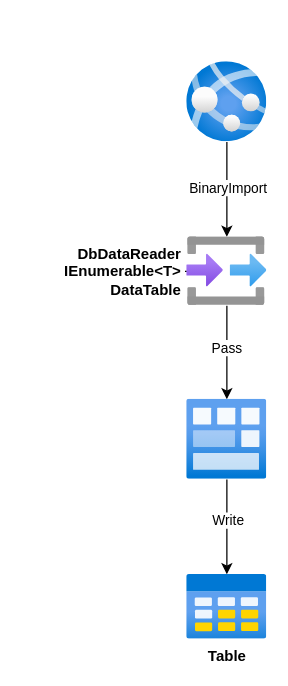
The diagram is 288 pixels wide and 686 high, and some of its shapes have lost their labels. Each missing label, with the centre of its shape:
"Client (RepoDB)" belongs at pixel 226 101.
"NpgsqlBinaryImporter (Write)" belongs at pixel 226 439.
